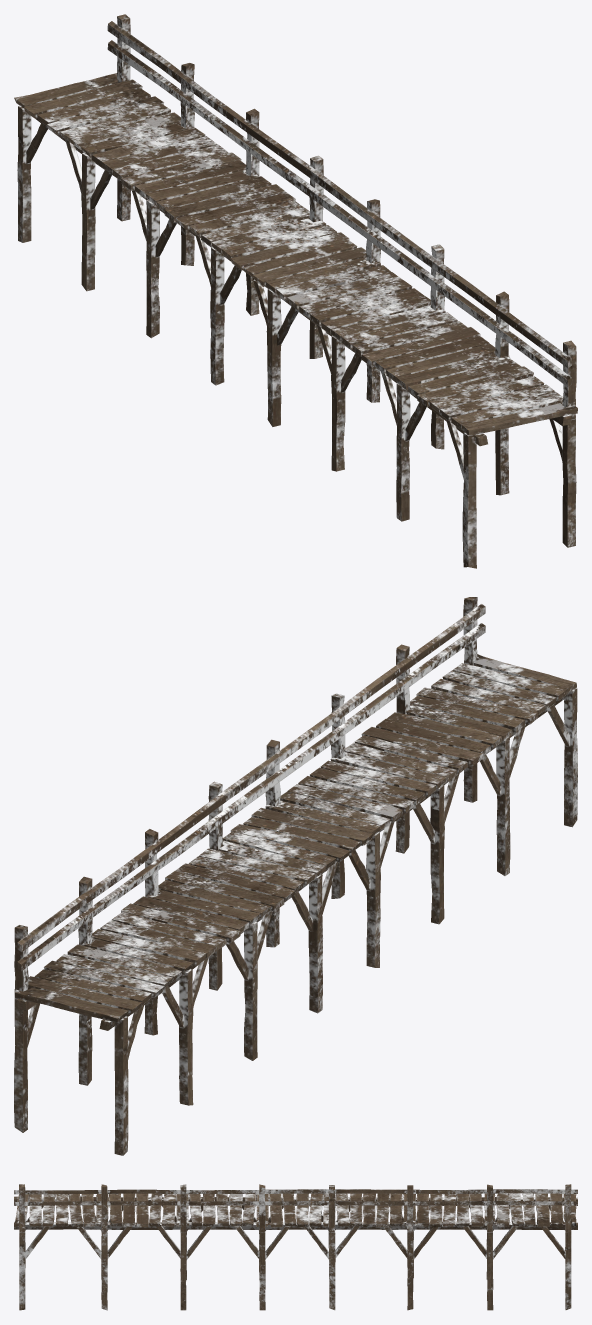
The model's file is Puente_2.fbx.
3 renders of one model, top to bottom at view 1: azimuth 30°, elevation 25°; view 2: azimuth 150°, elevation 25°; view 3: azimuth 270°, elevation 25°, orthographic. The views are drawn at different scales.
Visible parts, largest first — view 1: Lowpoly, Lowpolystolpe; view 2: Lowpoly, Lowpolystolpe; view 3: Lowpoly, Lowpolystolpe.
Boxes of the visible parts, bbox=[...] form: Lowpoly: bbox=[14, 14, 577, 479]; Lowpolystolpe: bbox=[17, 106, 576, 568]; Lowpoly: bbox=[14, 597, 576, 1059]; Lowpolystolpe: bbox=[14, 688, 577, 1155]; Lowpoly: bbox=[14, 1184, 577, 1259]; Lowpolystolpe: bbox=[19, 1229, 571, 1310].
Bounding box in the file's own units: 26345 × 45948 × 190016.
Materials: 1 (1 with a texture image).
